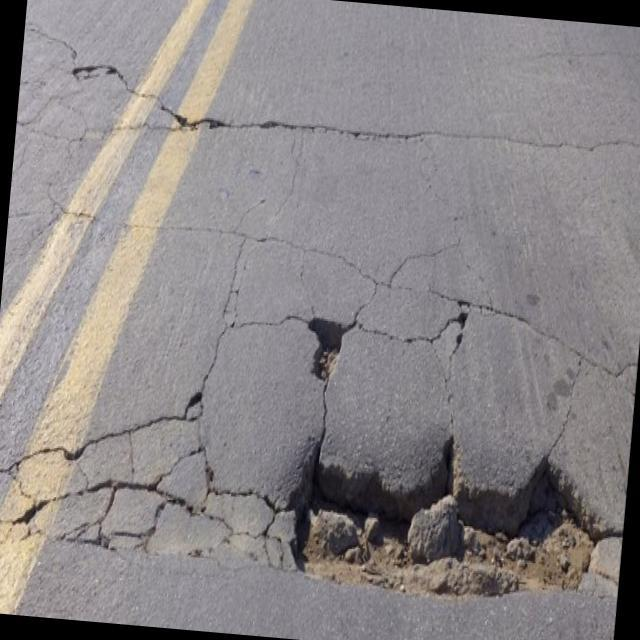Pothole: (249, 392, 632, 640), (291, 283, 359, 413)
